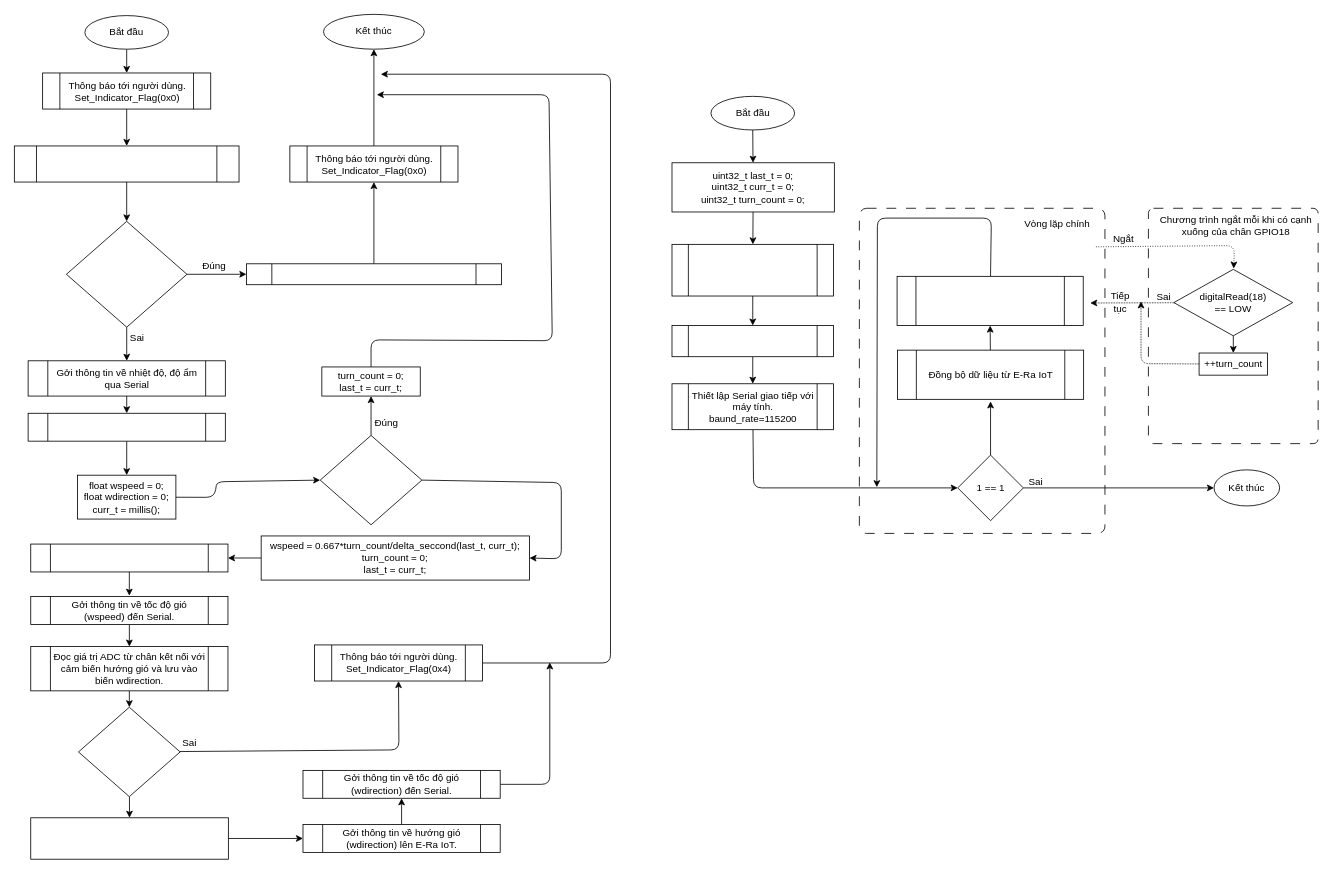
The diagram is 1333 pixels wide and 874 high, and some of its shapes have lost their labels. Each missing label, with the centre of its shape:
Chuyển đổi giá trị wdirection thành giá trị góc được?: point 129,751
Cập nhật dữ liệu từ cảm biến và gởi dữ liệu đến E-Ra IoT: point 989,301
Cật nhật giá trị ADC thành giá trị góc cho biến wdirection.: point 129,838
Gởi thông tin về nhiệt độ, độ ẩm lên E-Ra IoT.: point 126,426
Gởi thông tin về tốc độ gió (wspeed) lên E-Ra IoT.: point 129,557
Khởi tạo các biến môi trường, các đối tượng và kết nối tới nền tảng E-Ra IoT: point 752,270
last_t == 0 hoặc last_t > curr_t: point 370,480
Lấy dữ liệu nhiệt độ và độ ẩm từ cảm biến DHT11 và lưu vào biến t, h.: point 126,163
Serial.println("DHT11 - E: Corrupted data!"): point 373,274
t == NaN hoặc h == NaN: point 126,274
Thiết lập các chân GPIO: point 752,341
